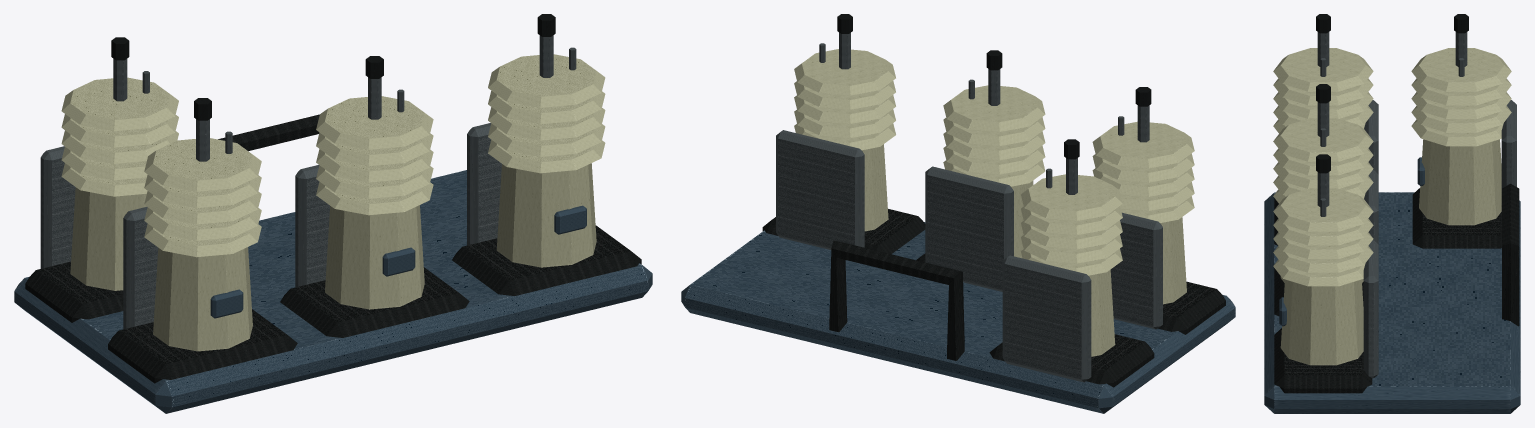
File: blender_thermal_beacon_2.glb
The picture shows the model from 3 angles, left to right: view 1: azimuth 30°, elevation 25°; view 2: azimuth 150°, elevation 25°; view 3: azimuth 270°, elevation 25°; orthographic projection. The views are drawn at different scales.
Parts seen in each view (by area): view 1: blender_thermal_beacon_2; view 2: blender_thermal_beacon_2; view 3: blender_thermal_beacon_2.
Part boxes in pixels (x1,y1,x2,y2): blender_thermal_beacon_2: (14,14,652,413); blender_thermal_beacon_2: (681,14,1235,413); blender_thermal_beacon_2: (1264,14,1520,413).
Bounding box in the file's own units: 0.191 × 0.101 × 0.102.
Materials: 4 (4 with a texture image).
